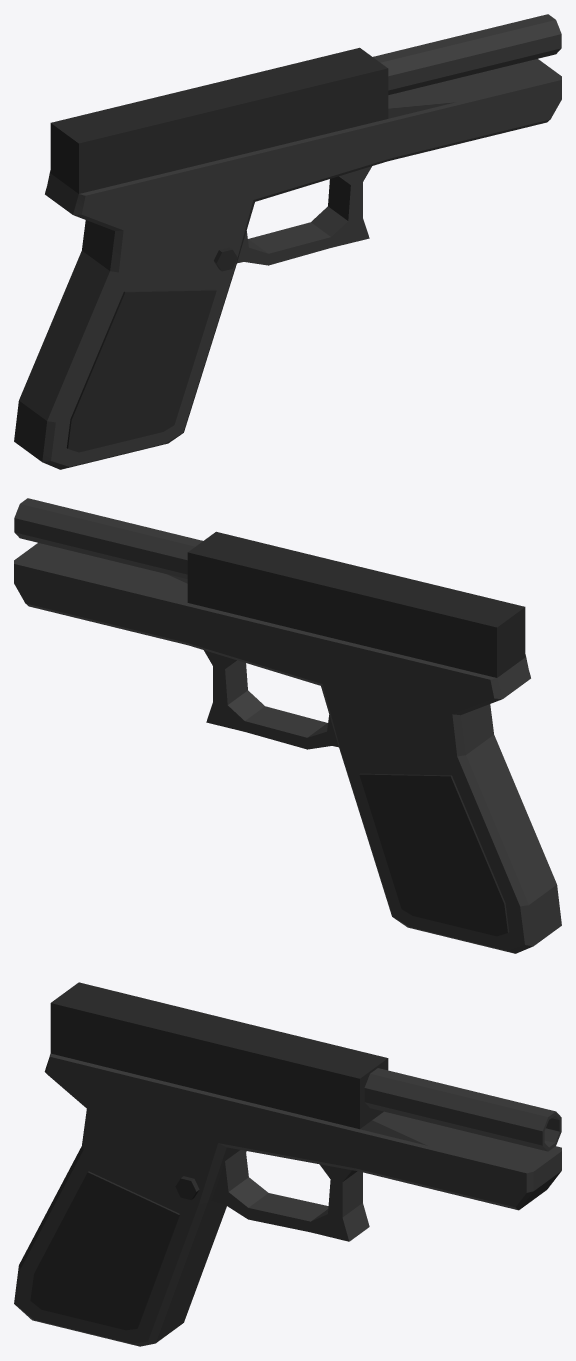
File: SM_Weapon_01.fbx
The picture shows the model from 3 angles, top to bottom: view 1: azimuth 30°, elevation 25°; view 2: azimuth 150°, elevation 25°; view 3: azimuth 330°, elevation 25°; orthographic projection.
Visible parts, largest first — view 1: SM_Weapon_01; view 2: SM_Weapon_01; view 3: SM_Weapon_01.
Part boxes in pixels (bbox=[...]): SM_Weapon_01: bbox=[14, 14, 561, 469]; SM_Weapon_01: bbox=[14, 498, 561, 953]; SM_Weapon_01: bbox=[14, 982, 561, 1346].
Size of the model in its own units: 0.2412 by 0.1415 by 0.0315.
1 material, 1 textured.
